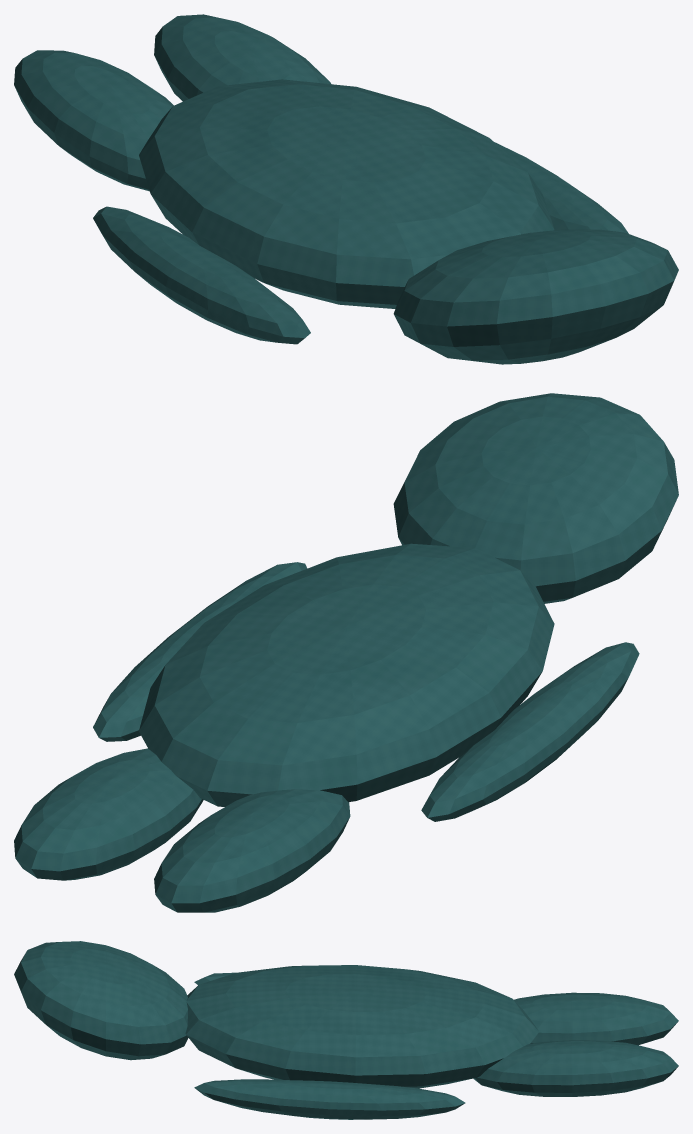
File: StarAtlasBodyFit_AST-RST-AQ-001.glb
The picture shows the model from 3 angles, top to bottom: view 1: azimuth 30°, elevation 25°; view 2: azimuth 150°, elevation 25°; view 3: azimuth 270°, elevation 25°; orthographic projection. The views are drawn at different scales.
Visible parts, largest first — view 1: SoftBroadTorso, RoundedHead, LeftFoldedLeg, LeftArm, RightFoldedLeg, RightArm; view 2: SoftBroadTorso, RoundedHead, LeftFoldedLeg, RightFoldedLeg, LeftArm, RightArm; view 3: SoftBroadTorso, RoundedHead, RightFoldedLeg, RightArm, LeftFoldedLeg.
Part boxes in pixels (<box>): SoftBroadTorso: <box>139,79,554,308</box>; RoundedHead: <box>393,229,678,364</box>; LeftFoldedLeg: <box>14,50,173,191</box>; LeftArm: <box>93,206,310,344</box>; RightFoldedLeg: <box>154,14,331,101</box>; RightArm: <box>494,142,628,233</box>; SoftBroadTorso: <box>139,543,554,806</box>; RoundedHead: <box>393,393,678,603</box>; LeftFoldedLeg: <box>154,789,350,912</box>; RightFoldedLeg: <box>14,748,203,880</box>; LeftArm: <box>421,642,639,821</box>; RightArm: <box>93,562,307,741</box>; SoftBroadTorso: <box>185,965,539,1088</box>; RoundedHead: <box>14,941,188,1060</box>; RightFoldedLeg: <box>473,1040,678,1096</box>; RightArm: <box>194,1079,465,1119</box>; LeftFoldedLeg: <box>514,992,678,1045</box>.
Bounding box in the file's own units: 0.83 × 0.3418 × 1.81.
Materials: 1 (1 with a texture image).
